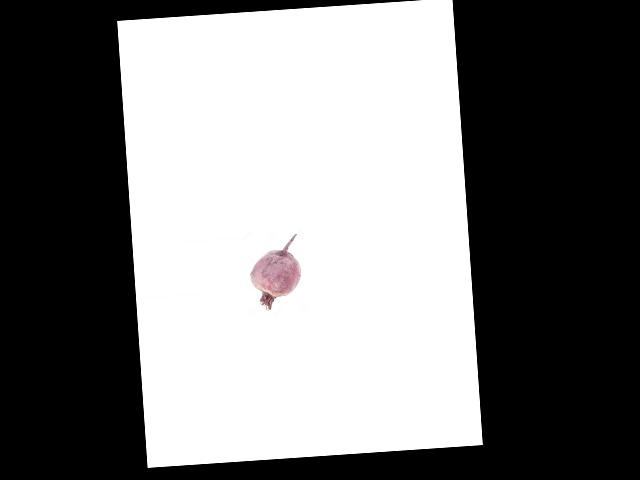beet: (248, 234, 303, 311)
